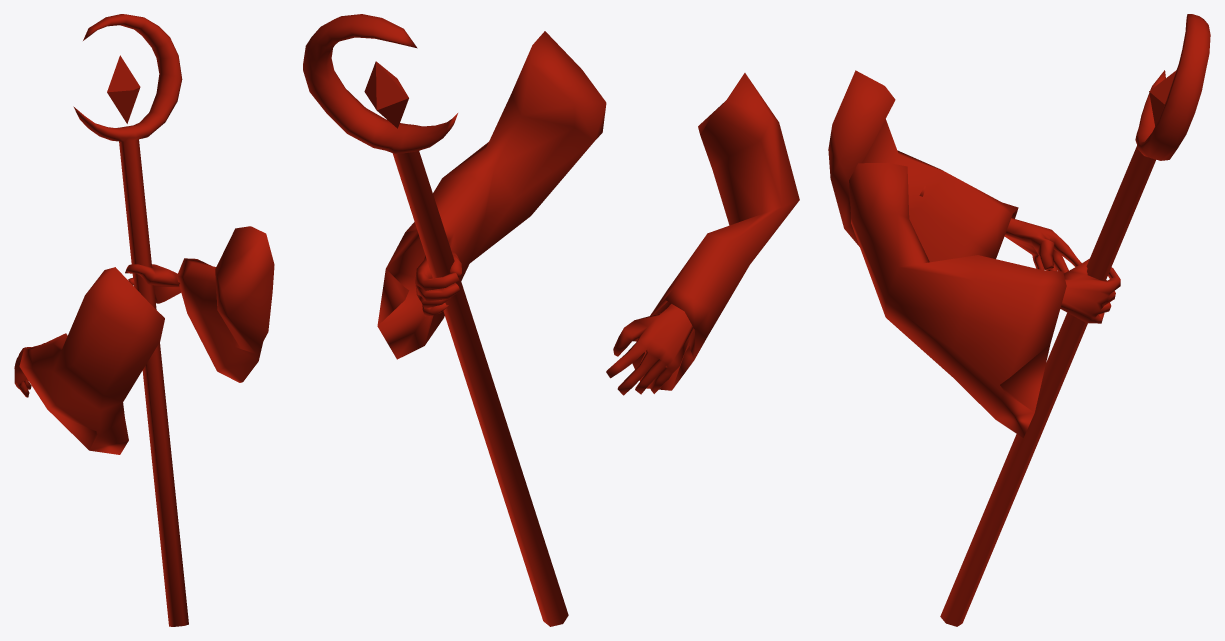
File: arm_000030.obj
3 views of the same model, side by side, from view 1: azimuth 30°, elevation 25°; view 2: azimuth 150°, elevation 25°; view 3: azimuth 270°, elevation 25° (orthographic). The views are drawn at different scales.
Parts seen in each view (by area): view 1: LowPoly_Warlock.000_Plane.005; view 2: LowPoly_Warlock.000_Plane.005; view 3: LowPoly_Warlock.000_Plane.005.
Part boxes in pixels (bbox=[...]): LowPoly_Warlock.000_Plane.005: bbox=[14, 14, 274, 626]; LowPoly_Warlock.000_Plane.005: bbox=[303, 14, 799, 626]; LowPoly_Warlock.000_Plane.005: bbox=[828, 14, 1210, 626].
Size of the model in its own units: 0.882 by 1.8 by 0.9964.
